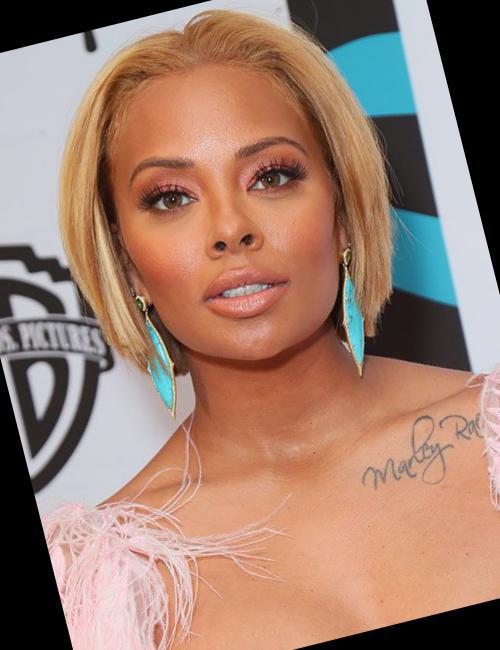Sober: (112, 80, 335, 348)
